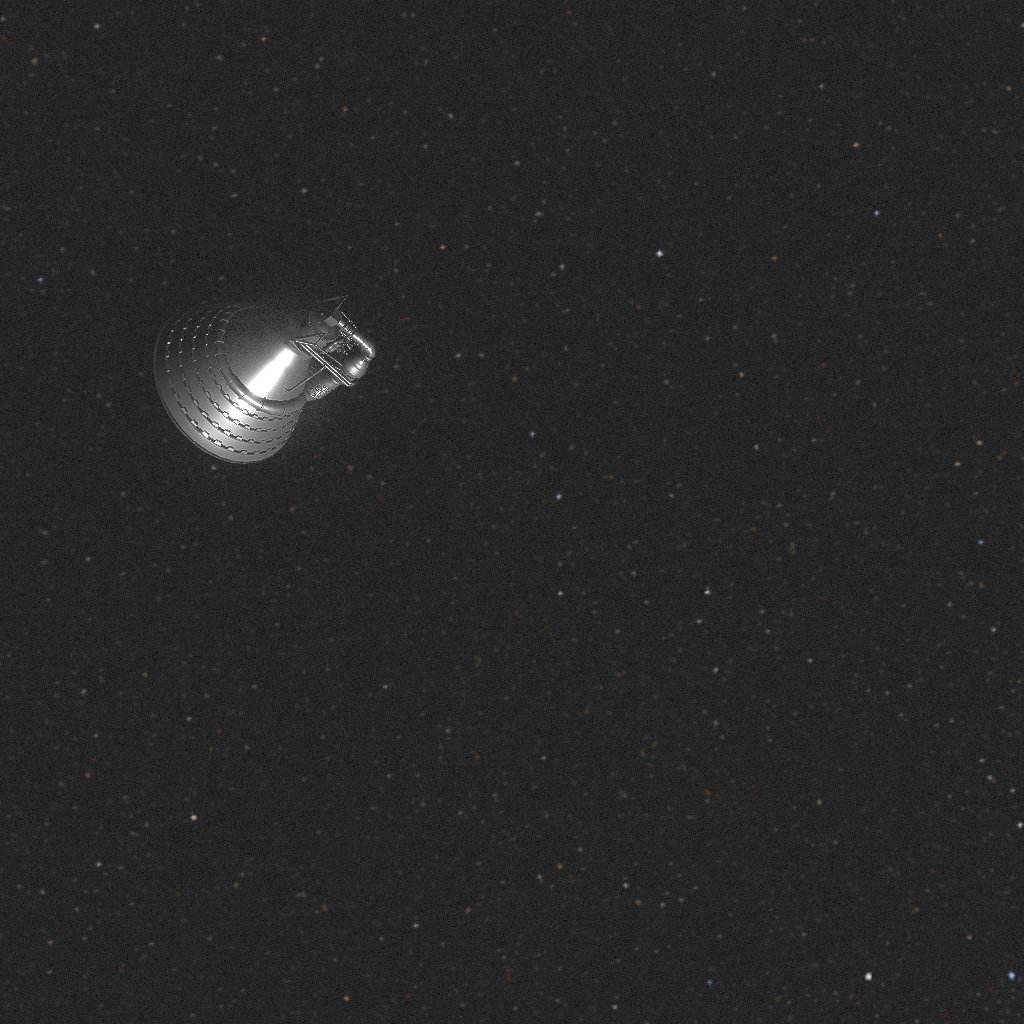debris: (153, 295, 376, 464)
